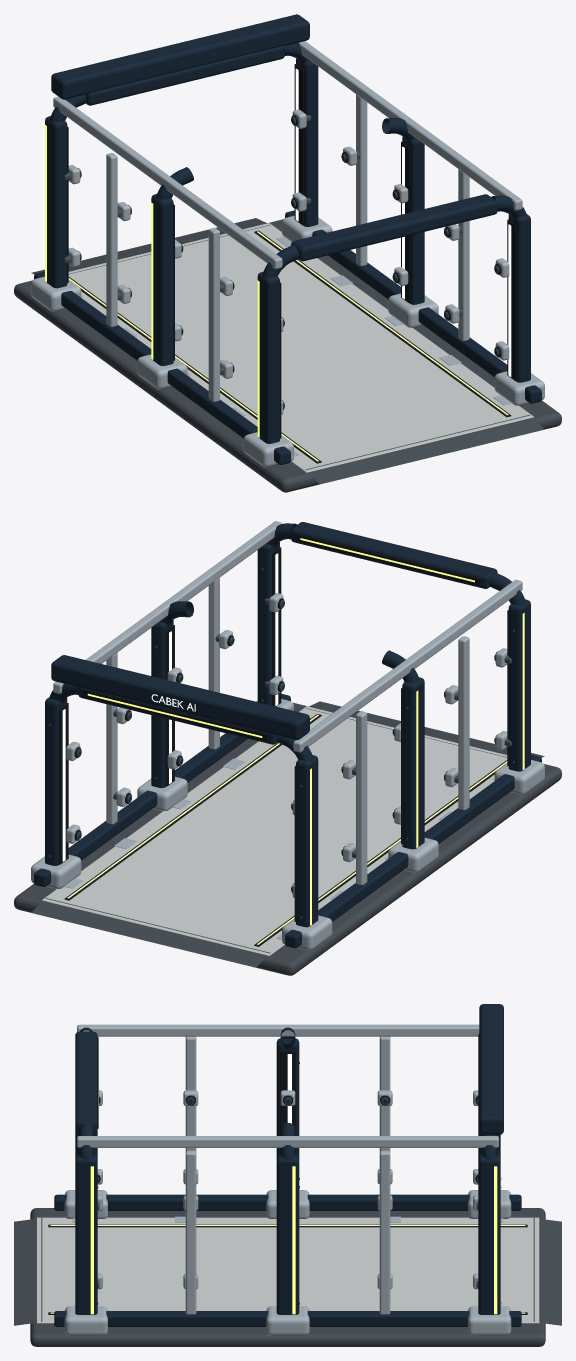
Rendered from cabek-tunnel.glb.
3 renders of one model, top to bottom at view 1: azimuth 30°, elevation 25°; view 2: azimuth 150°, elevation 25°; view 3: azimuth 270°, elevation 25°, orthographic. The views are drawn at different scales.
Parts seen in each view (by area): view 1: Scan tunnel; view 2: Scan tunnel; view 3: Scan tunnel.
Boxes of the visible parts, x1,y1,x2,y2 form: Scan tunnel: (14,14,561,492); Scan tunnel: (14,521,561,975); Scan tunnel: (14,1004,561,1346).
Size of the model in its own units: 4.14 by 3.3 by 7.34.
